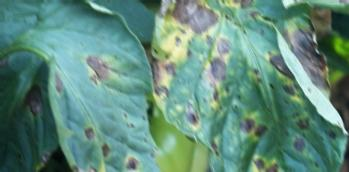Tomato Early blight leaf: (150, 0, 343, 172)
